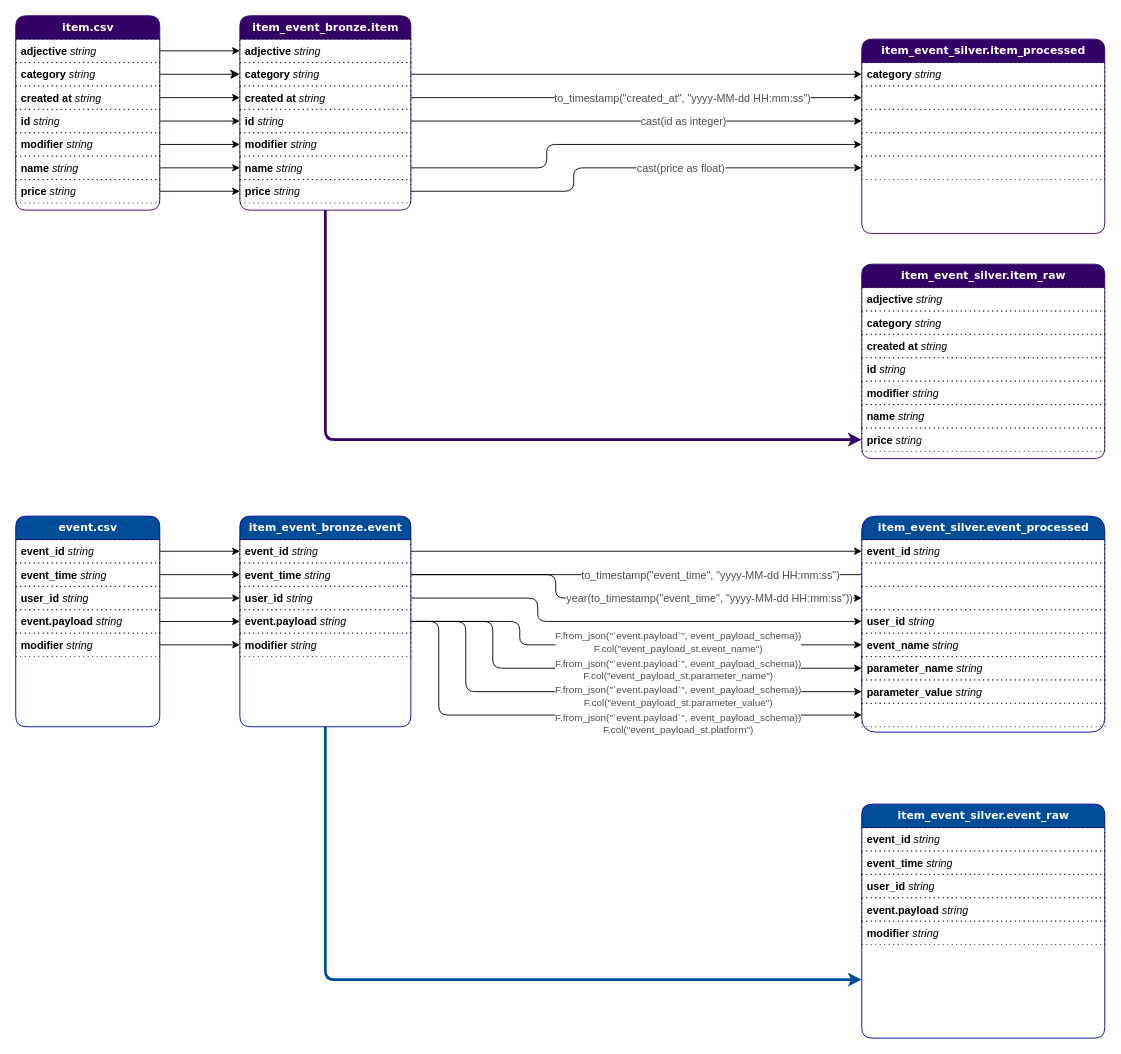
This 1121x1054 diagram has some shape labels left out. Here are the shapes that lost their labels. From the top down, the centre of each, then its label:
At point 983,97: "item_created_at_utc timestamp".
At point 983,120: "item_id int".
At point 983,144: "item_name string".
At point 983,167: "item_price float".
At point 983,574: "event_time_utc timestamp".
At point 983,597: "event_year int".
At point 983,714: "platform string".
